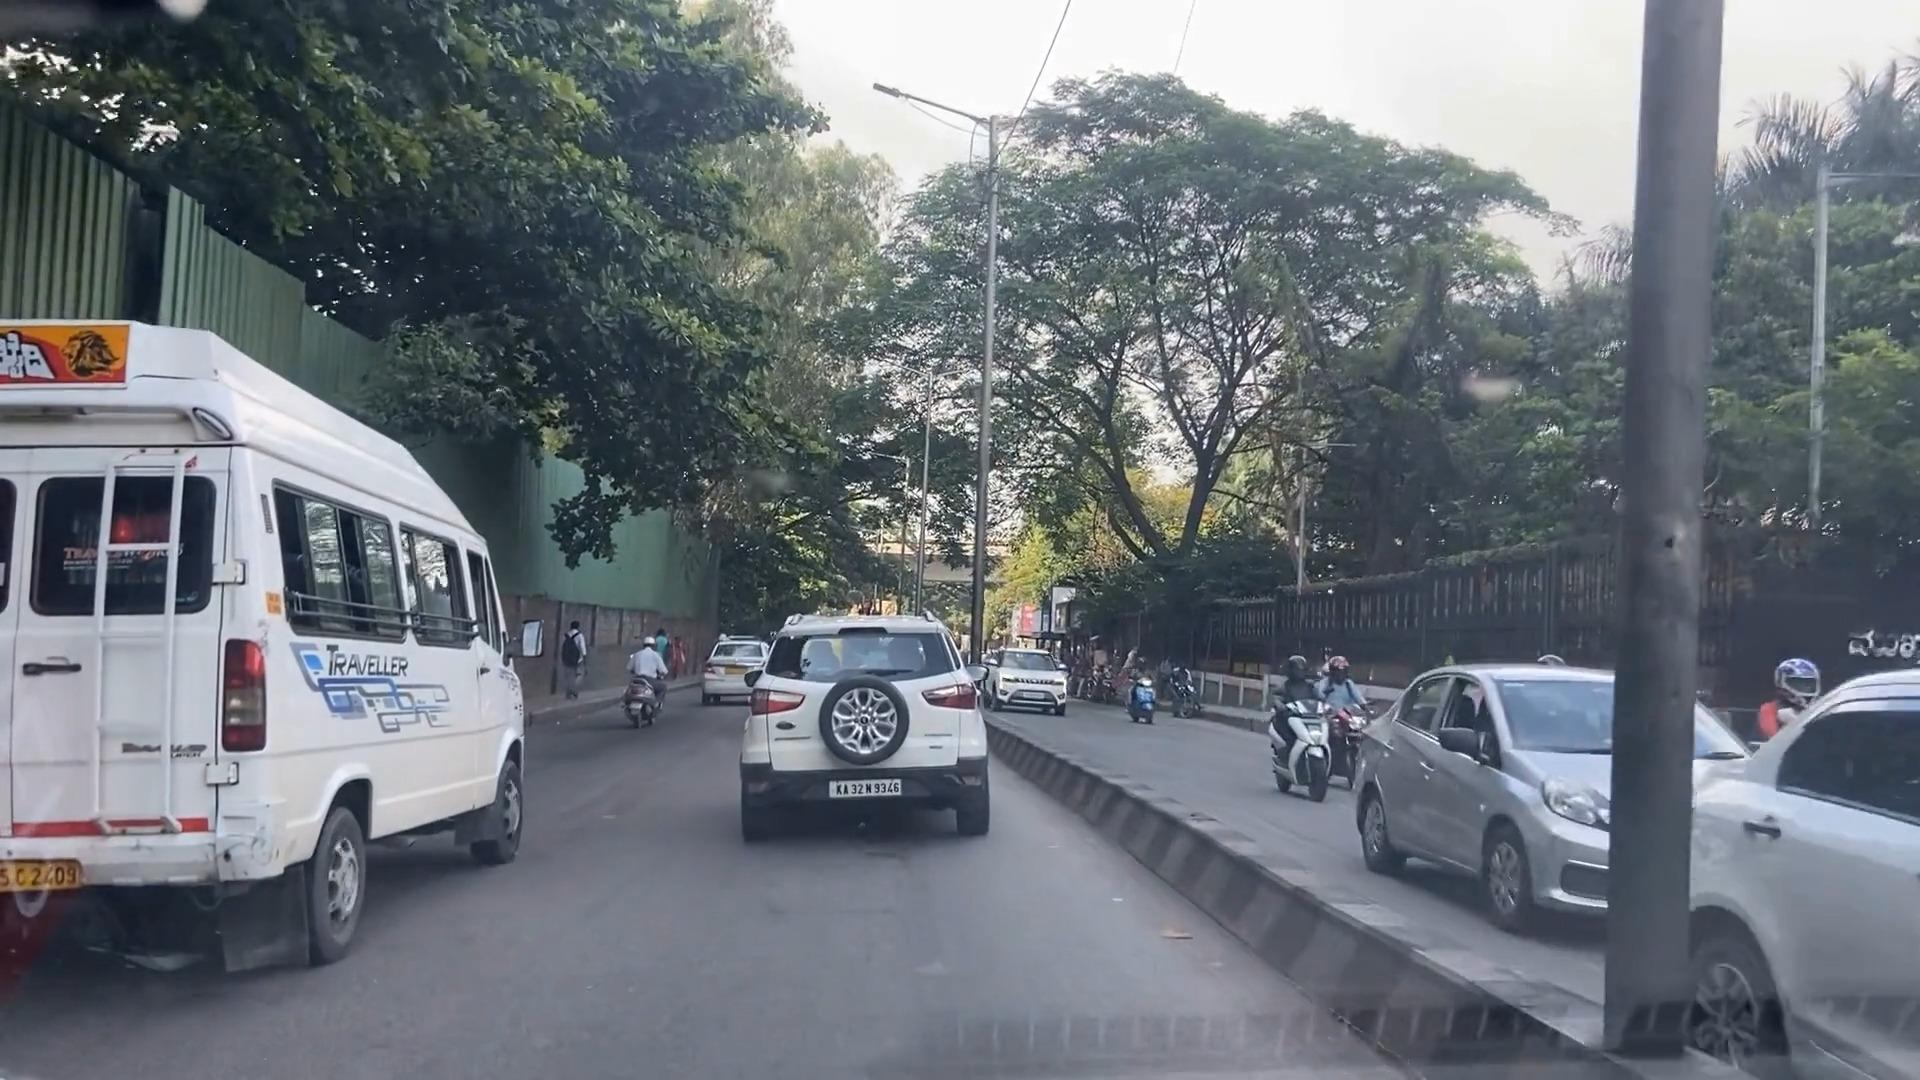HMV: (0, 309, 529, 931)
LMV: (729, 618, 1000, 851)
